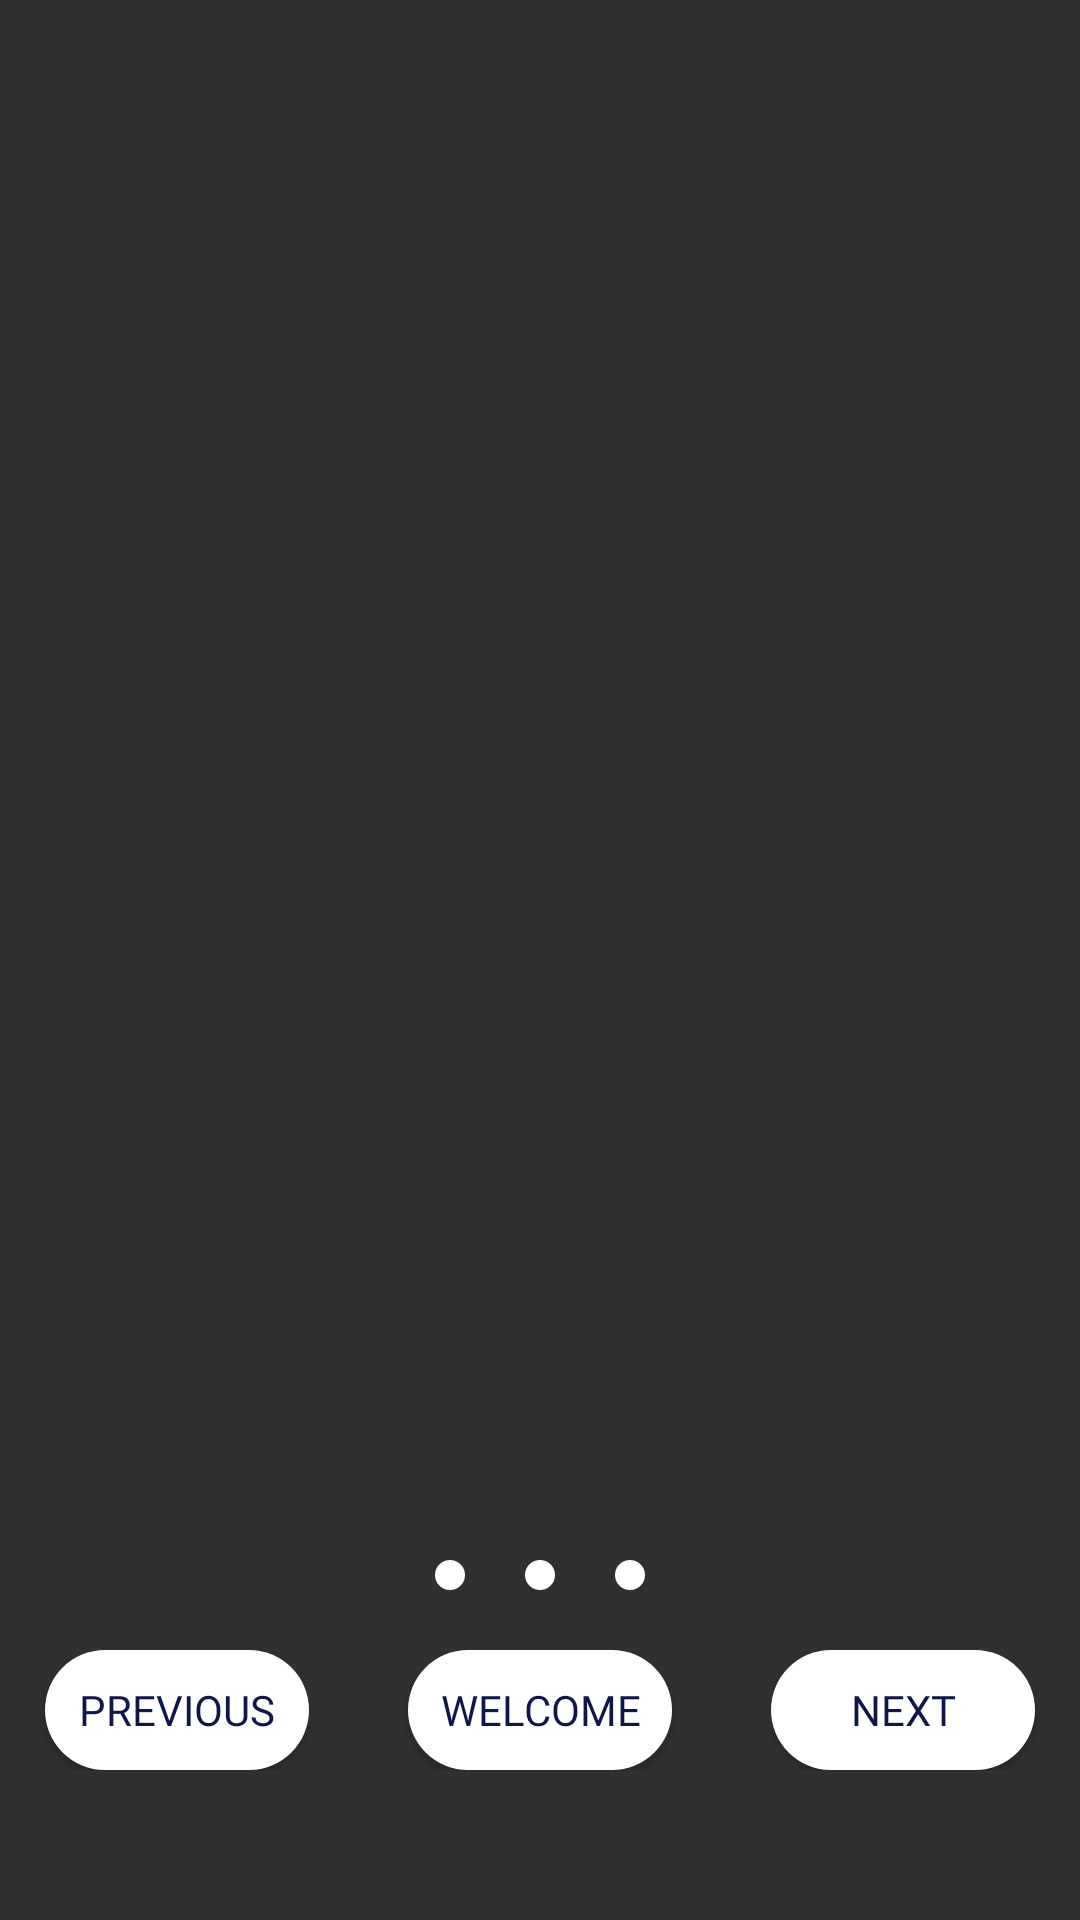

Screen size 1080×1920. Icon name, then its box in pixels as (x1, y1, x2, y2):
dotactive: (435, 1560, 465, 1590), (525, 1560, 555, 1590), (615, 1560, 645, 1590)
